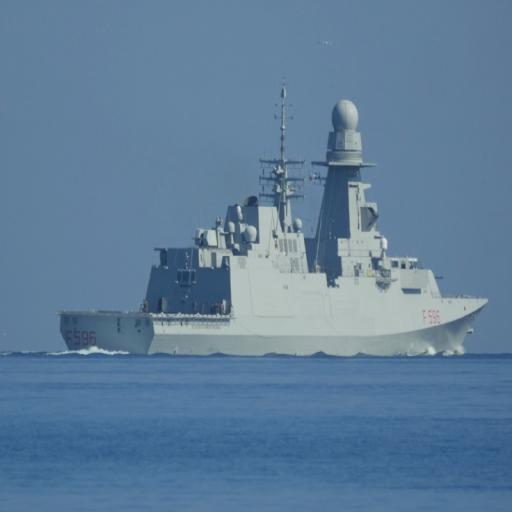Fragata: (60, 91, 494, 361)
